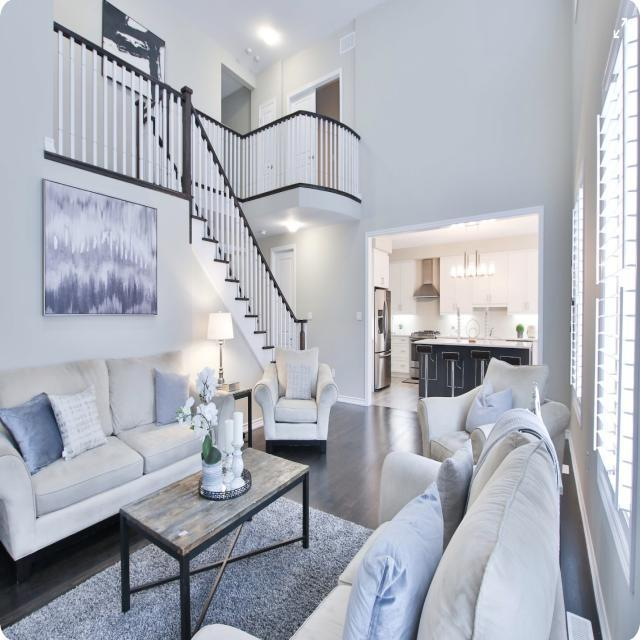lamp: (201, 303, 238, 384)
picture: (45, 171, 162, 321)
pillow: (0, 389, 64, 476), (54, 382, 108, 459), (153, 366, 195, 429)
sofa: (5, 352, 208, 556), (255, 346, 338, 452)
table: (122, 442, 317, 640)
